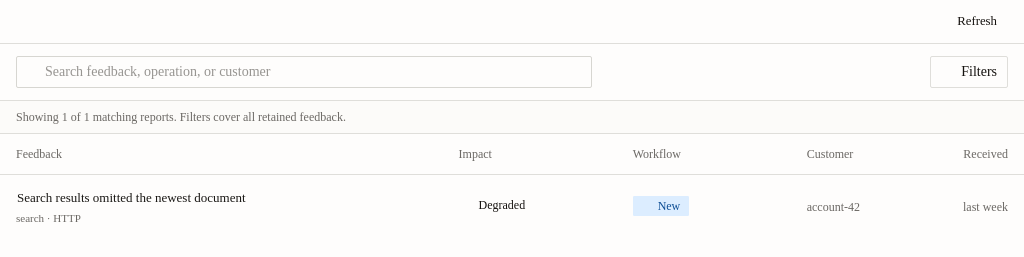
Test: observability onboarding states › does not flash unfiltered feedback while a server search is pending
Expected: the row "Search results omitted" is shown, [0,174,1023,240]
Type "missing" into the field labelled "Search feedback" at {"x": 315, "y": 72}, box [39,56,591,88]
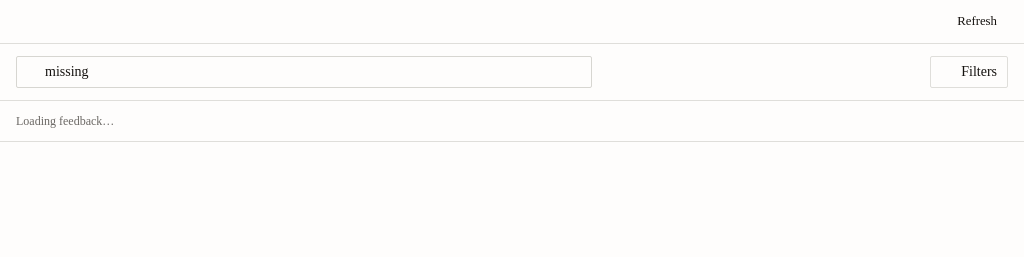
Expected: the button "Search results omitted" is gone
Expected: the text "Loading feedback…" is shown, [0,101,1023,142]
